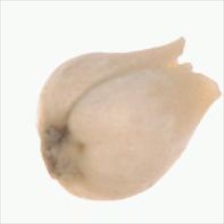L1: (173, 33, 222, 100), (38, 125, 84, 183)
L2: (37, 36, 221, 201)
